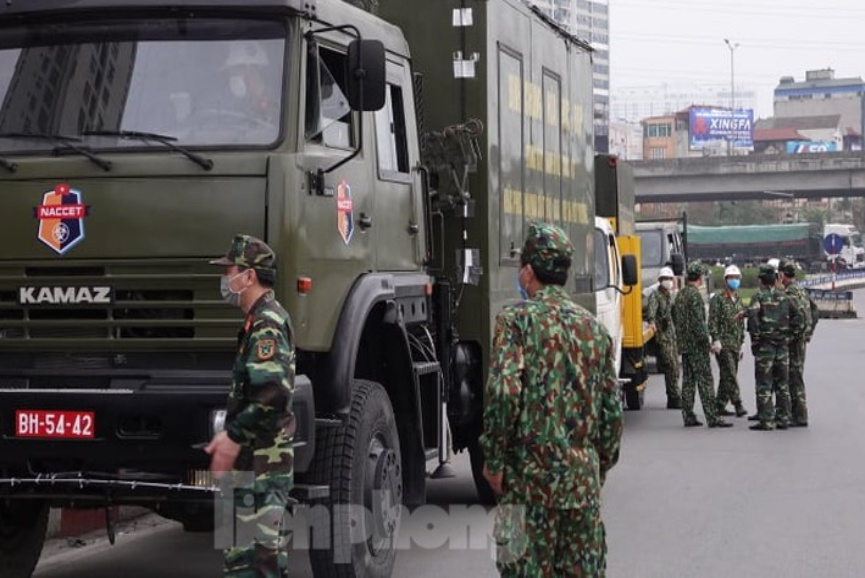plate: (13, 408, 96, 437)
